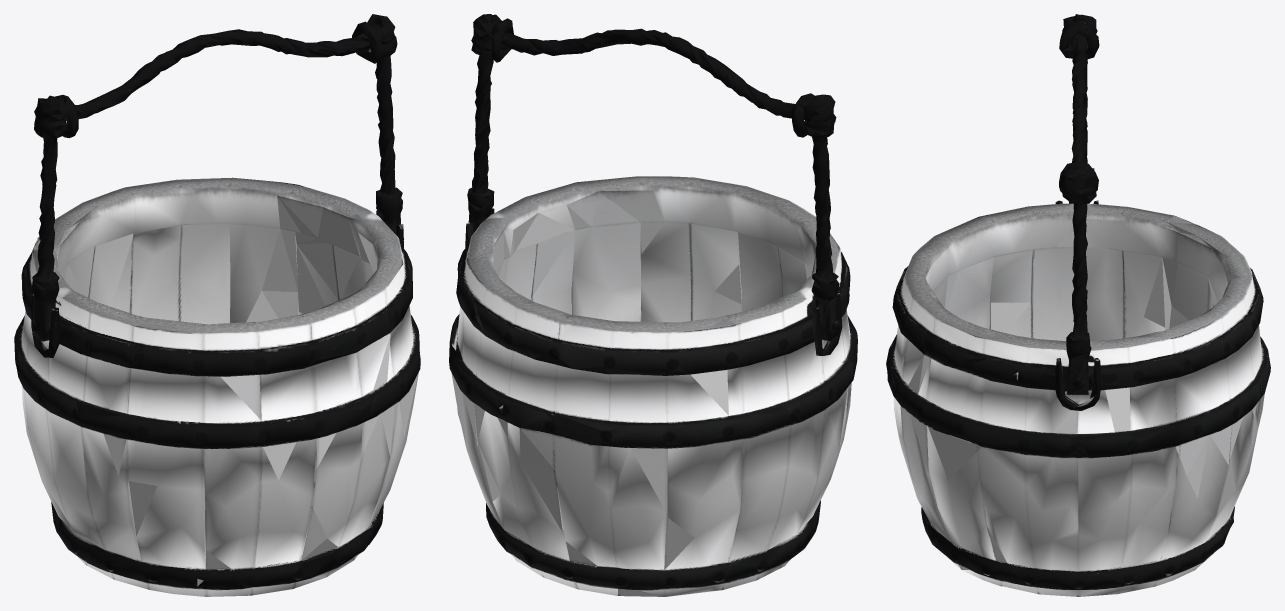
File: Seau.fbx
3 renders of one model, left to right at view 1: azimuth 30°, elevation 25°; view 2: azimuth 150°, elevation 25°; view 3: azimuth 270°, elevation 25°, orthographic. The views are drawn at different scales.
Visible parts, largest first — view 1: output_unwrapped; view 2: output_unwrapped; view 3: output_unwrapped.
Boxes of the visible parts, bbox=[...] form: output_unwrapped: bbox=[14, 14, 420, 596]; output_unwrapped: bbox=[449, 14, 857, 596]; output_unwrapped: bbox=[886, 14, 1270, 596].
Bounding box in the file's own units: 147 × 190 × 141.
Materials: 1 (1 with a texture image).
